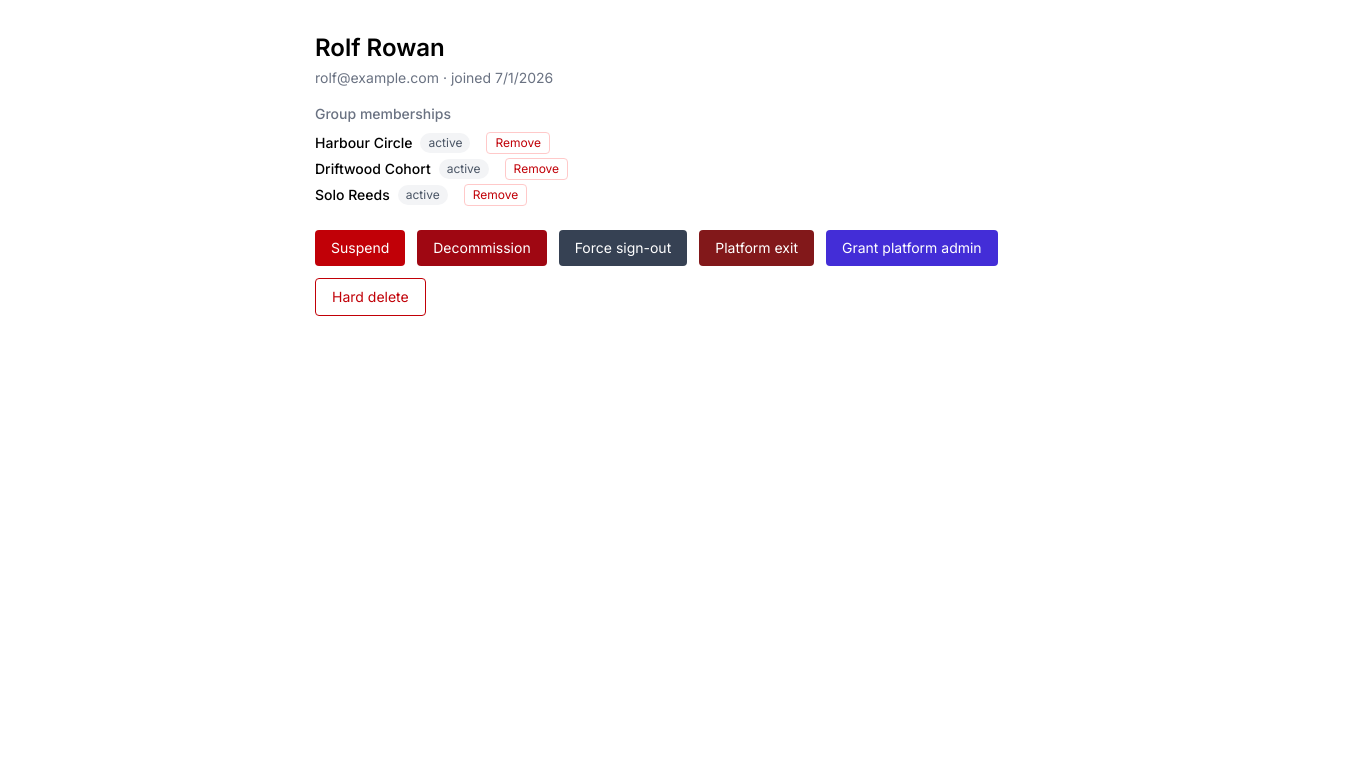
Test case: AdminMemberDetail (FEAT-H036 STORY-2..6) › STORY-3 suspend confirmed: POSTs, then repaints from the fresh read (badge flips)
Expected: the heading "Rolf Rowan" is shown, [315,32,445,64]
Click the button with test id "suspend-member" at (360, 248), box [315,230,405,266]
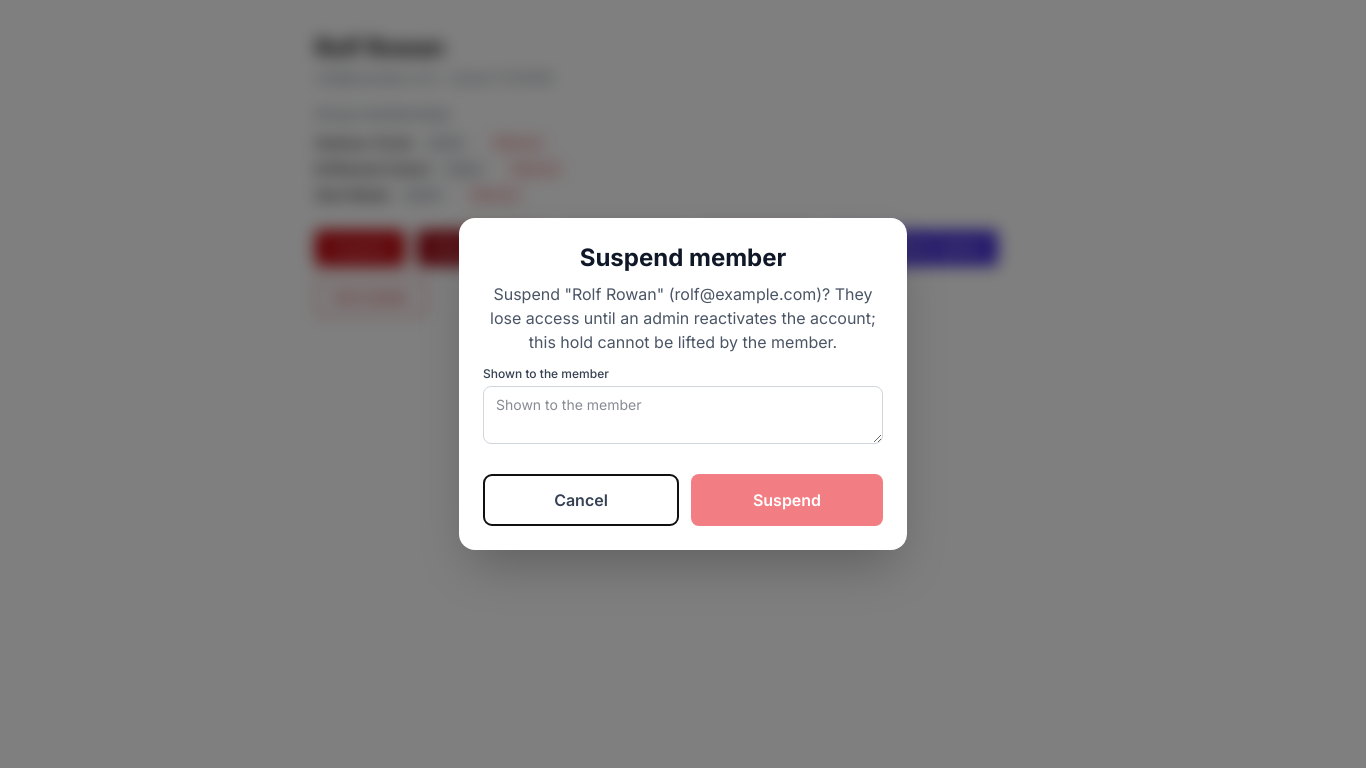
Type "FEAT-PC030 adapted: reason required" into the text box with test id "ceremony-reason" at (683, 415), box [483,386,883,444]
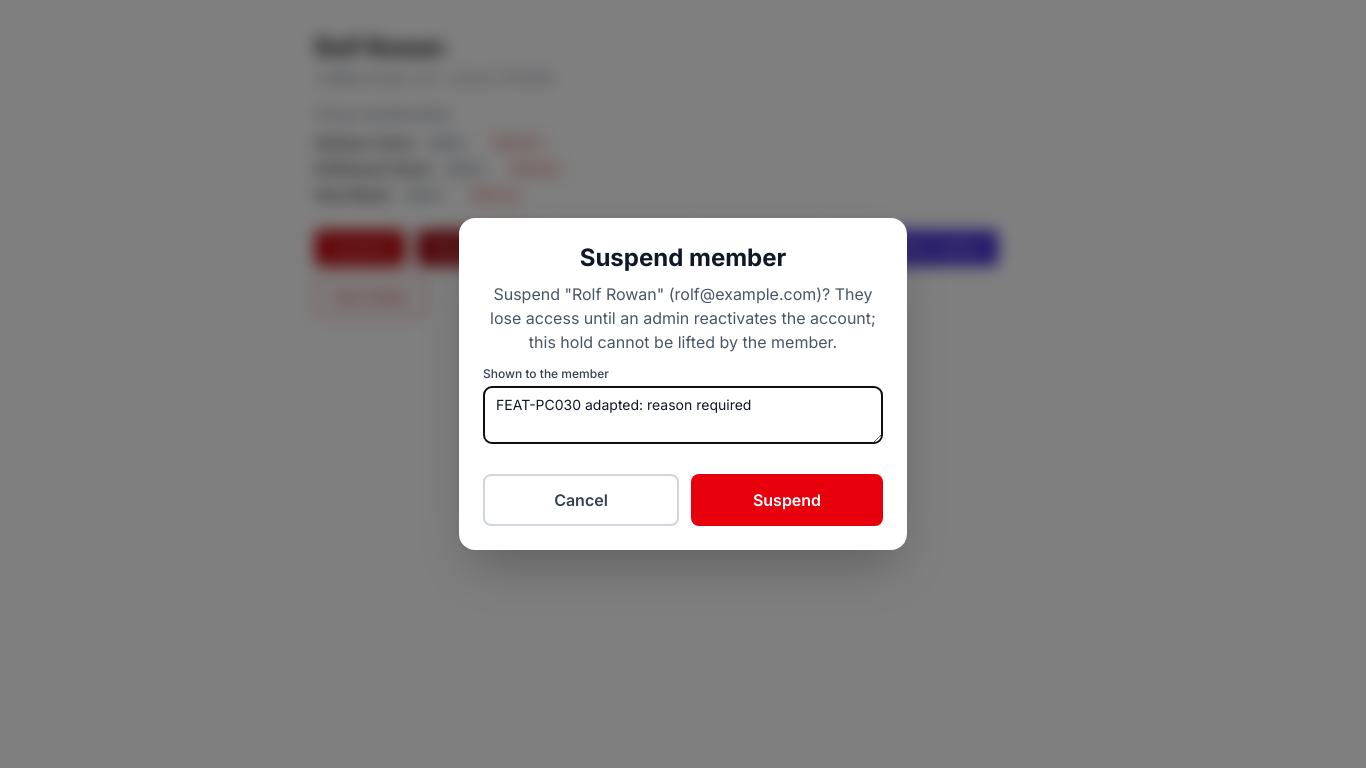
Click the button "Suspend" at (787, 500), box [691,474,883,526]
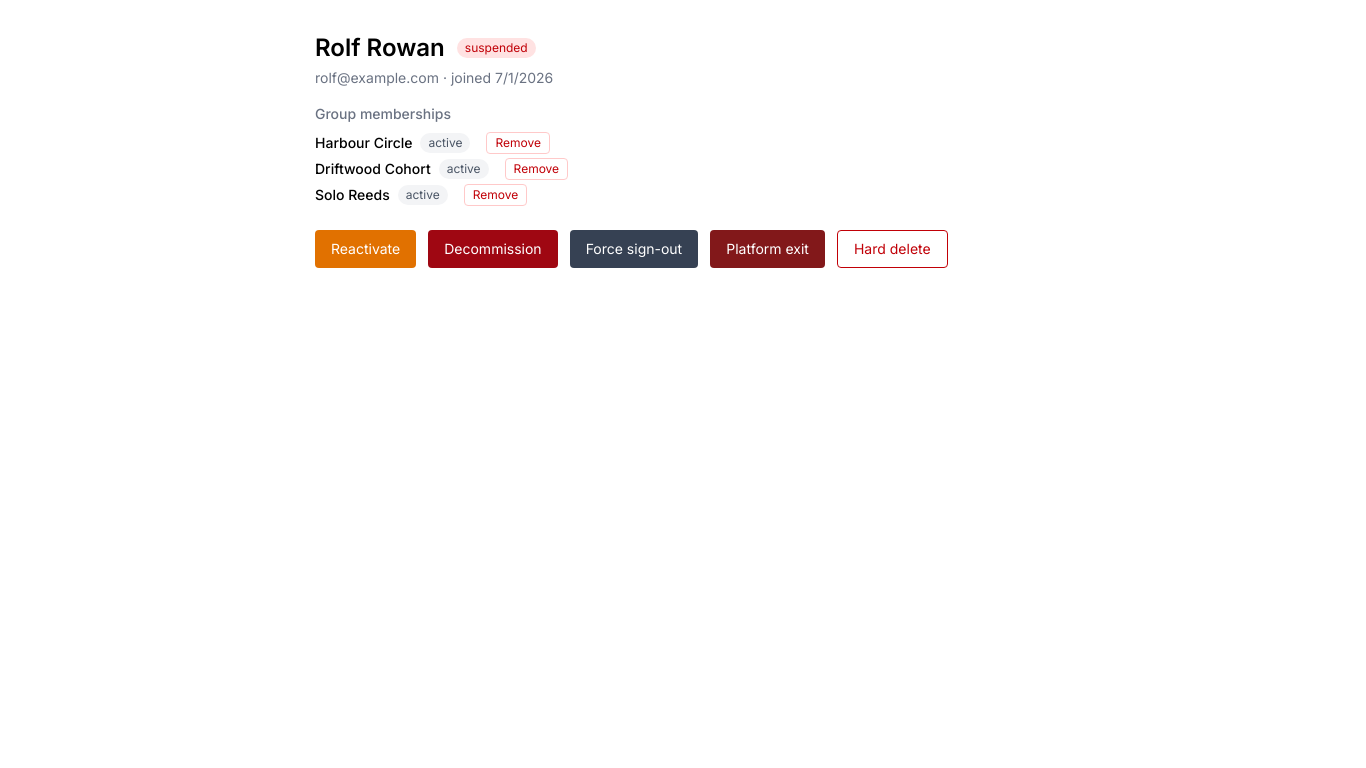
Result: the text with test id "state-badge" reads "suspended" at [465,40,528,55]
